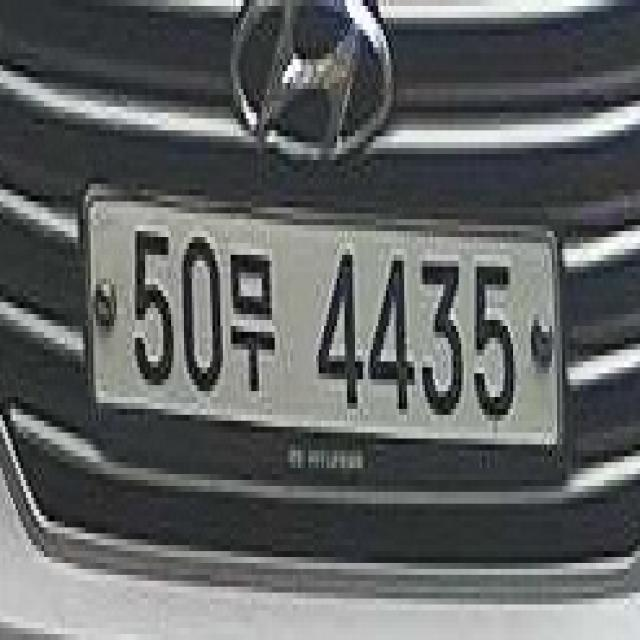0: (179, 220, 225, 398)
3: (418, 248, 466, 425)
4: (367, 240, 415, 423), (315, 242, 363, 416)
5: (472, 256, 520, 430), (131, 224, 174, 392)
license_plate: (75, 188, 582, 482)
mu: (230, 236, 282, 400)
